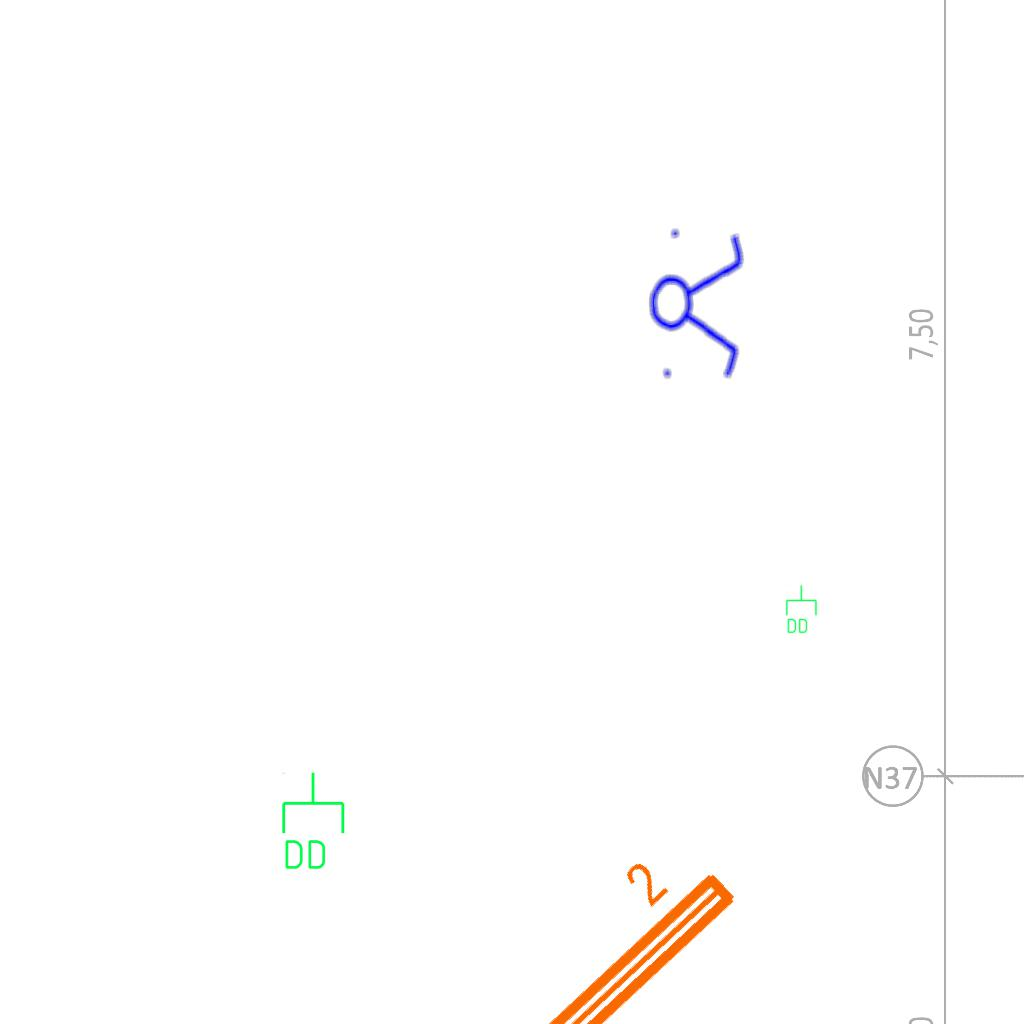Ambulanz_Pendelleuchte_LED: (108, 820, 752, 1024)
Datenanschluss_zweifach: (278, 770, 347, 873), (784, 584, 818, 635)
Serienschalter: (644, 216, 750, 390)
